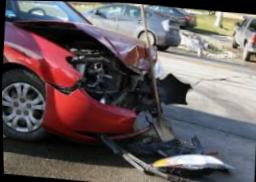Bonnet: (11, 20, 163, 69)
Bumper: (44, 83, 189, 149)
